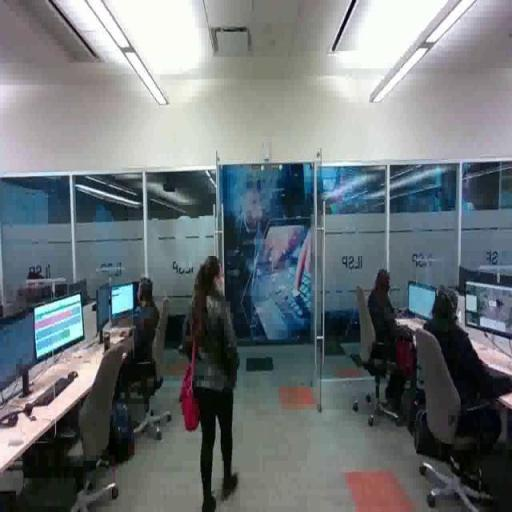person: (182, 246, 244, 512)
